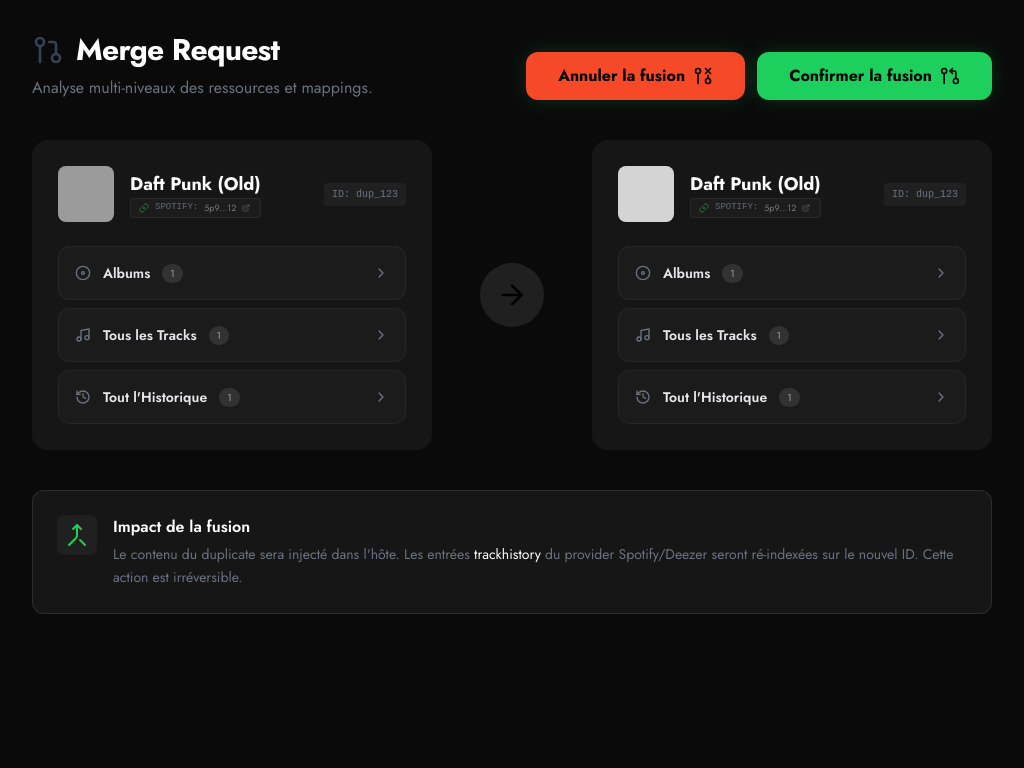
Test: MergeRequestPage (détail) › déplier Albums affiche les albums, puis un clic les replie
What coordinates should you click on to do the following:
click the 1st button "Albums 1"
I would click on:
 (127, 273)
Its box is [59,247,405,299].
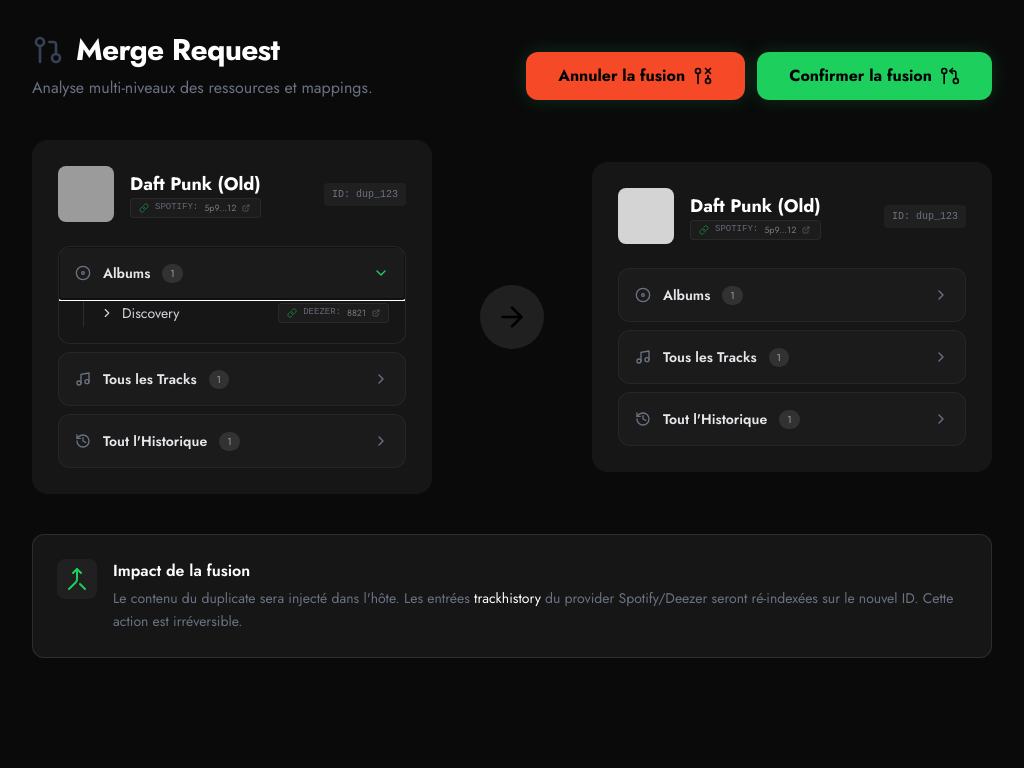
Expected: the button "Discovery" is shown, [100,303,180,323]
What coordinates should you click on to do the following:
click the 1st button "Albums 1"
I would click on:
 (127, 273)
Its box is [59,247,405,299].
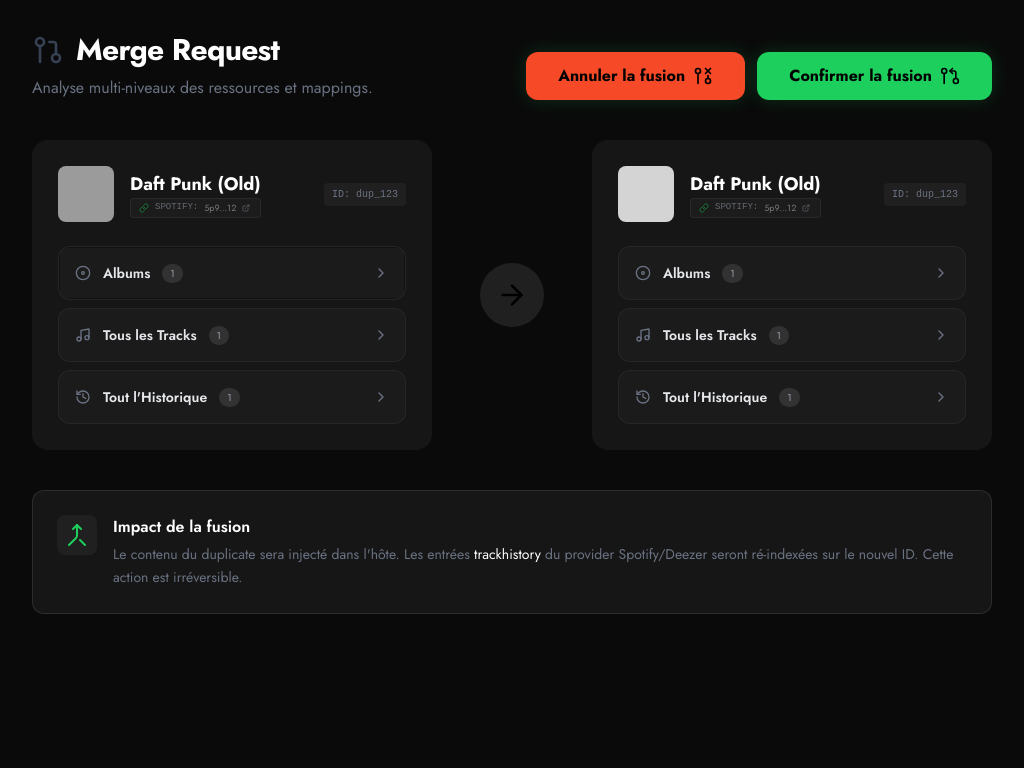
Expected: the button "Discovery" is gone
